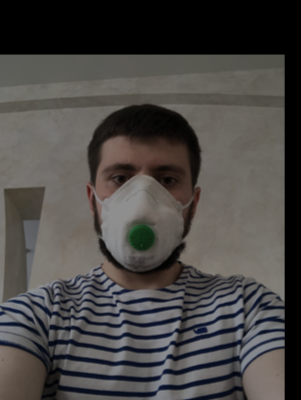with_mask: (95, 147, 189, 273)
